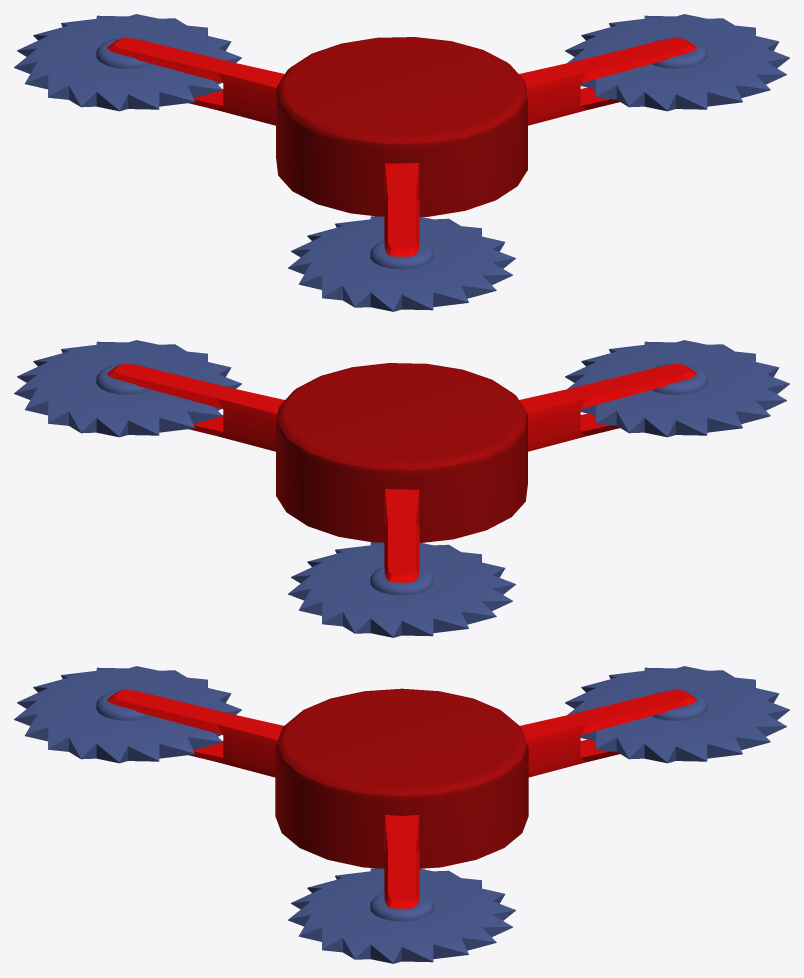
File: Saw_B_Triple.fbx
3 renders of one model, top to bottom at view 1: azimuth 30°, elevation 25°; view 2: azimuth 150°, elevation 25°; view 3: azimuth 270°, elevation 25°, orthographic.
Visible parts, largest first — view 1: Saw_B_Triple; view 2: Saw_B_Triple; view 3: Saw_B_Triple.
Part boxes in pixels (x1,y1,x2,y2): Saw_B_Triple: (14,14,789,311); Saw_B_Triple: (14,340,789,637); Saw_B_Triple: (14,666,789,963).
Size of the model in its own units: 164 by 19.99 by 181.
